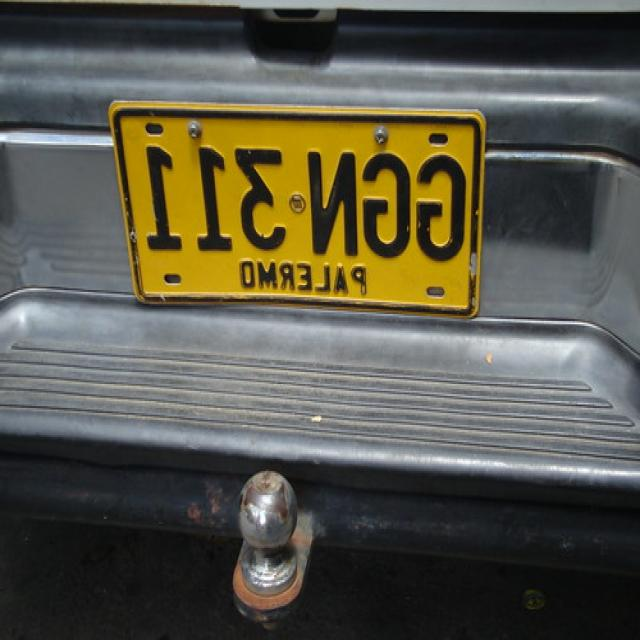placas: (119, 110, 475, 258)
